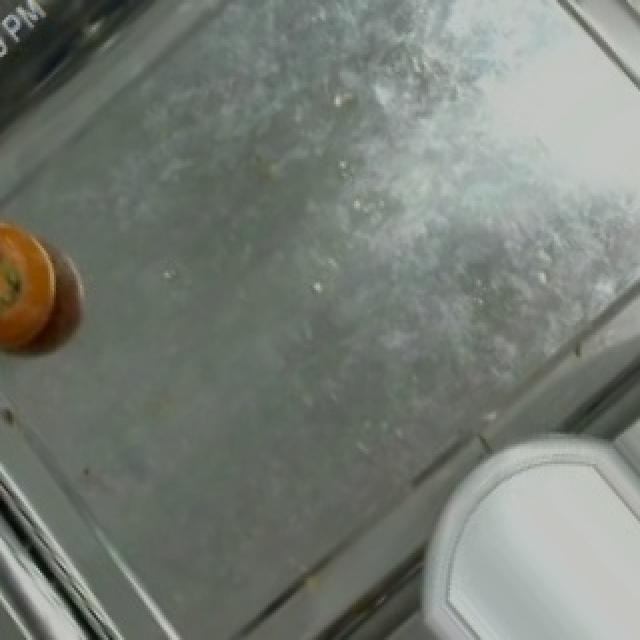Fruit: (426, 434, 640, 640), (0, 194, 76, 372), (582, 0, 640, 134)
